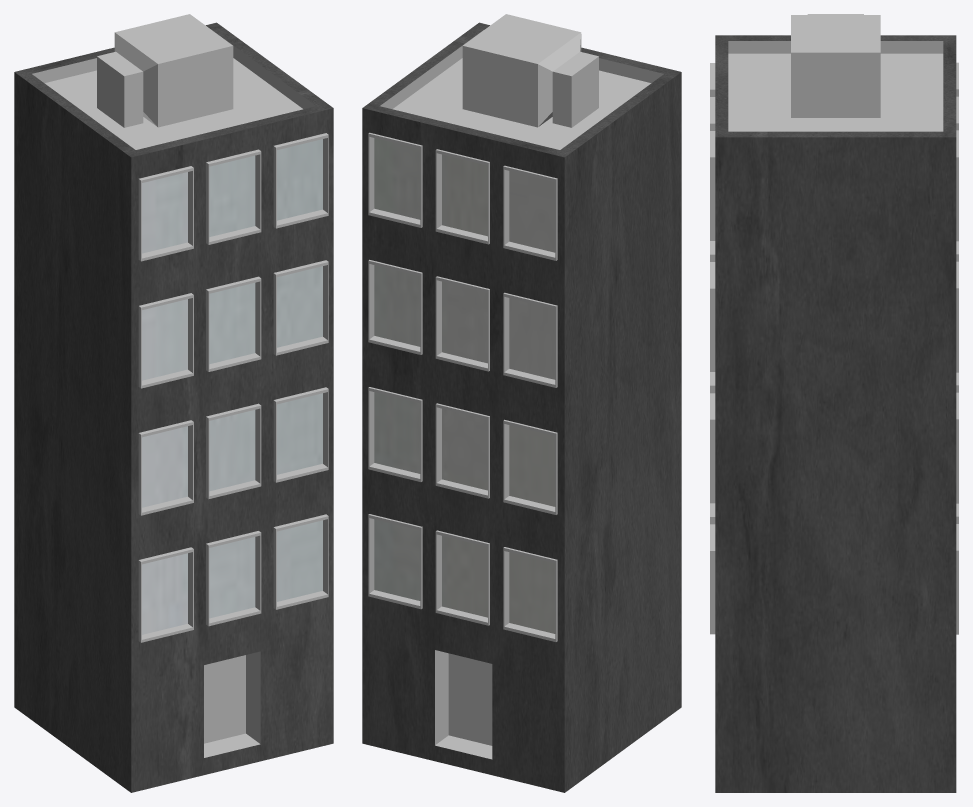
The model's file is apart.fbx.
3 renders of one model, left to right at view 1: azimuth 30°, elevation 25°; view 2: azimuth 150°, elevation 25°; view 3: azimuth 270°, elevation 25°, orthographic. The views are drawn at different scales.
Parts seen in each view (by area): view 1: Cube.004, Cube.001, Cube, Cube.002; view 2: Cube.004, Cube.001, Cube, Cube.002, Cube.003; view 3: Cube.004, Cube, Cube.002.
Part boxes in pixels (x1,y1,x2,y2): Cube.004: (14,22,333,792); Cube.001: (142,139,322,634); Cube: (32,30,328,757); Cube.002: (97,14,233,127); Cube.004: (362,22,681,792); Cube.001: (374,138,555,633); Cube: (368,30,663,759); Cube.002: (462,14,598,127); Cube.003: (448,653,492,745); Cube.004: (715,35,956,792); Cube: (710,41,958,634); Cube.002: (791,14,880,117).
Size of the model in its own units: 500 by 1620 by 516.
